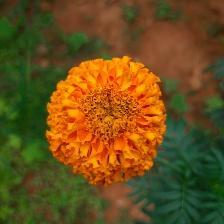marigold: (45, 53, 169, 192)
